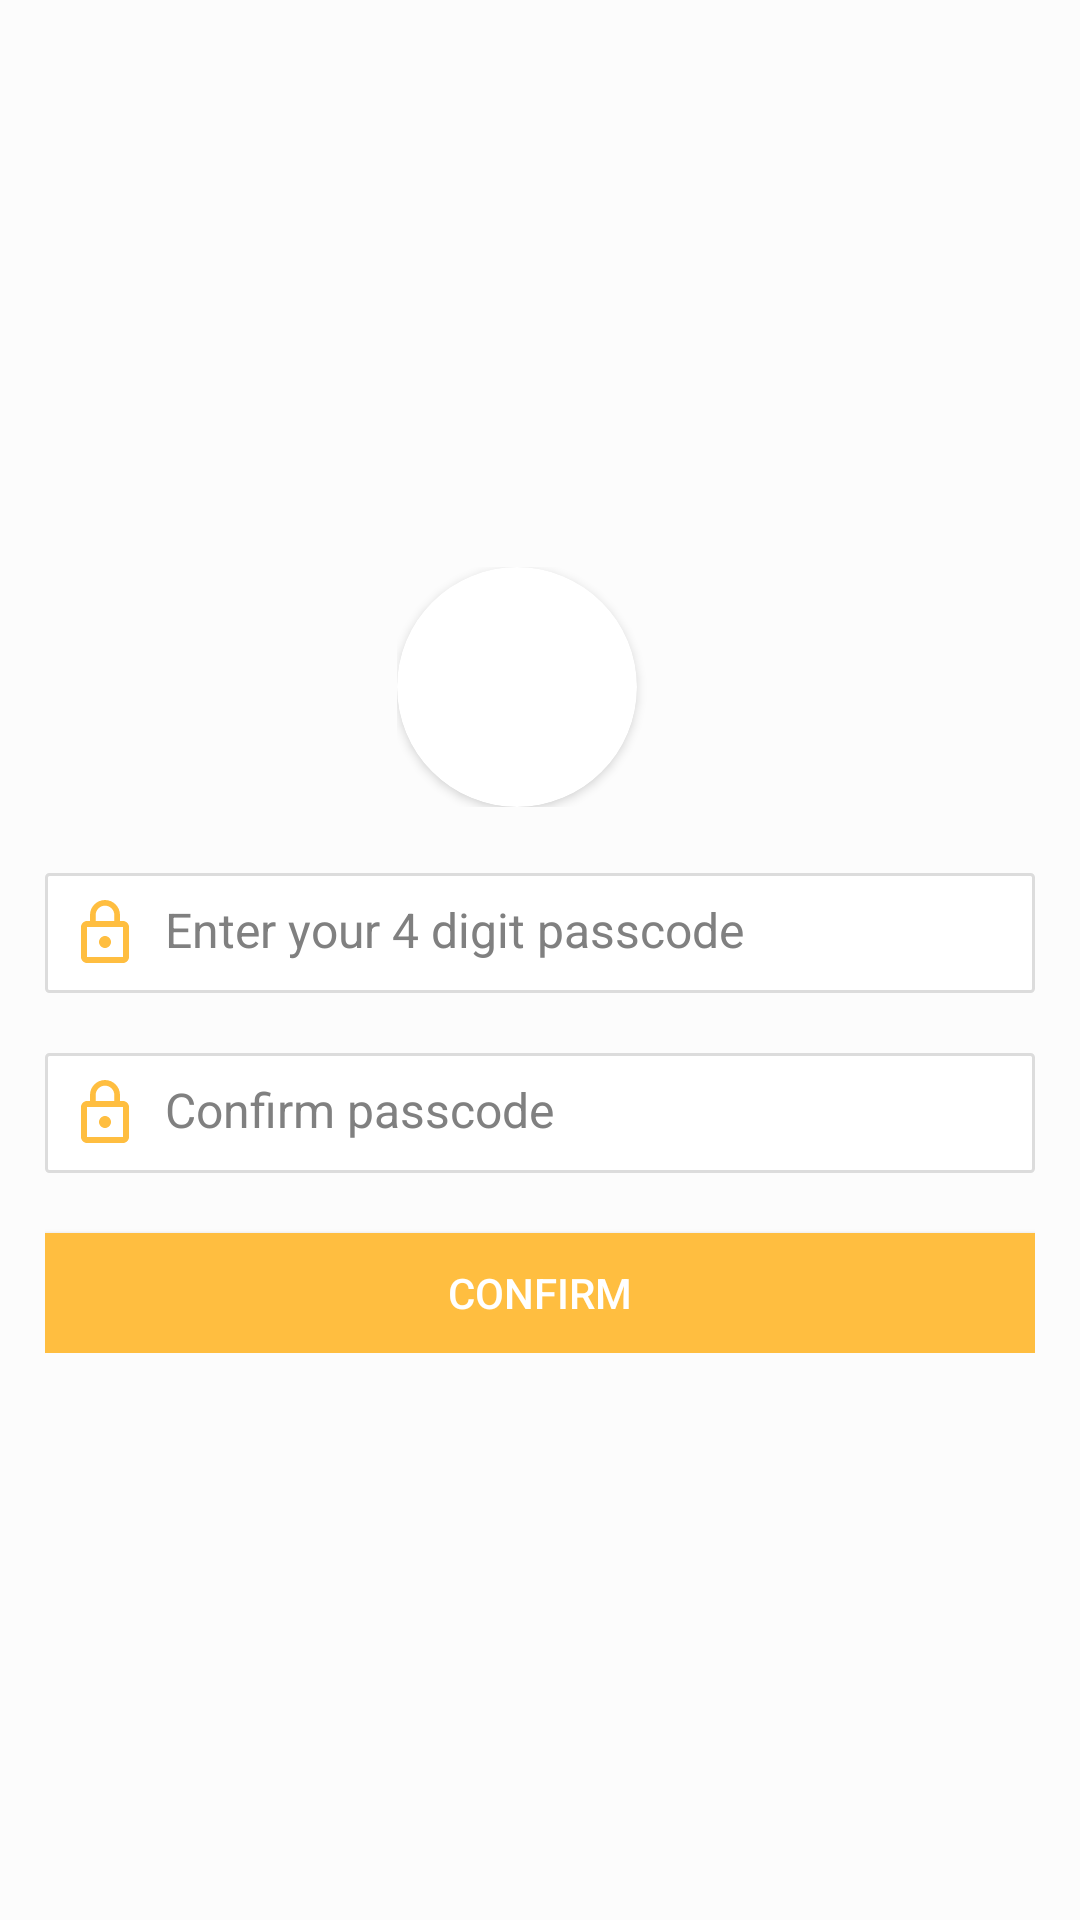

Icon bounding boxes for this 1080px x 1920px phone screenshot, format (x1, y1, x2, y2):
lock: (81, 900, 129, 963), (81, 1080, 129, 1143)
